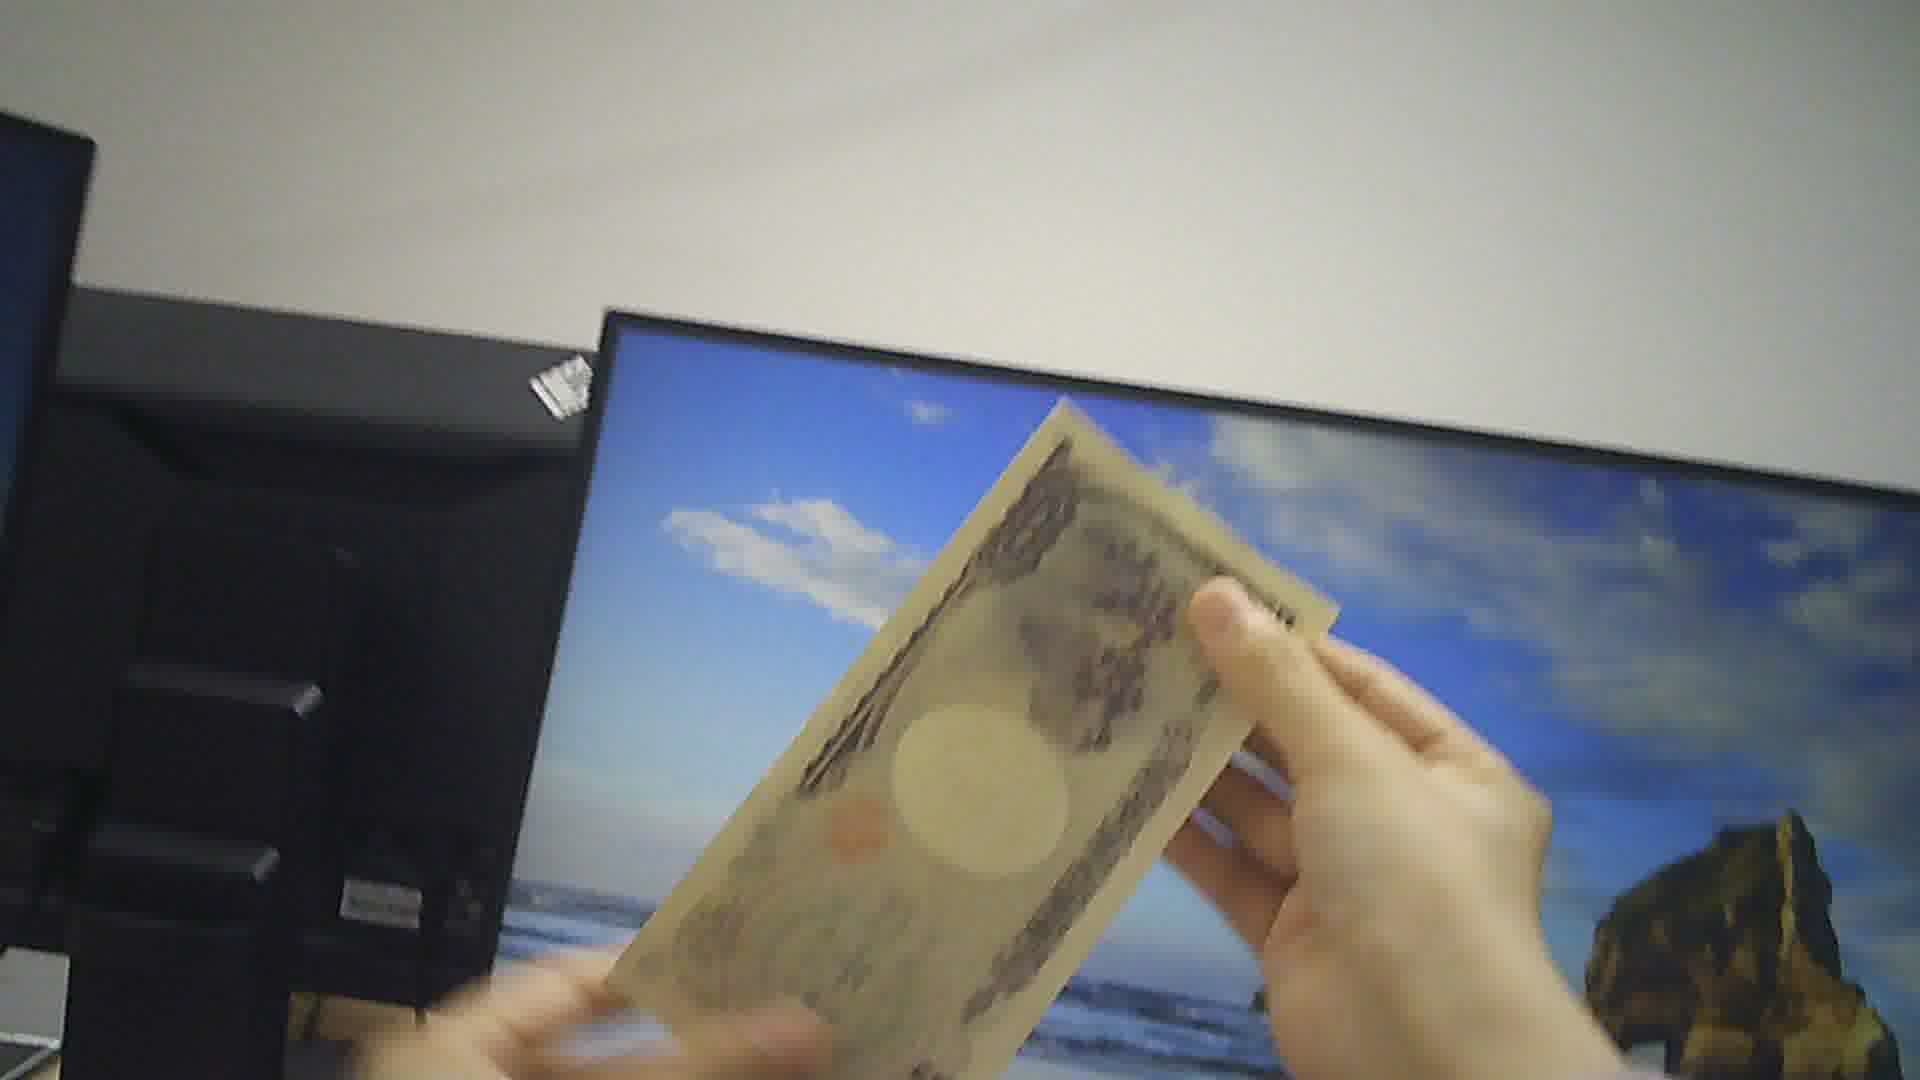5,000 Yen: (615, 414, 1345, 1079)
